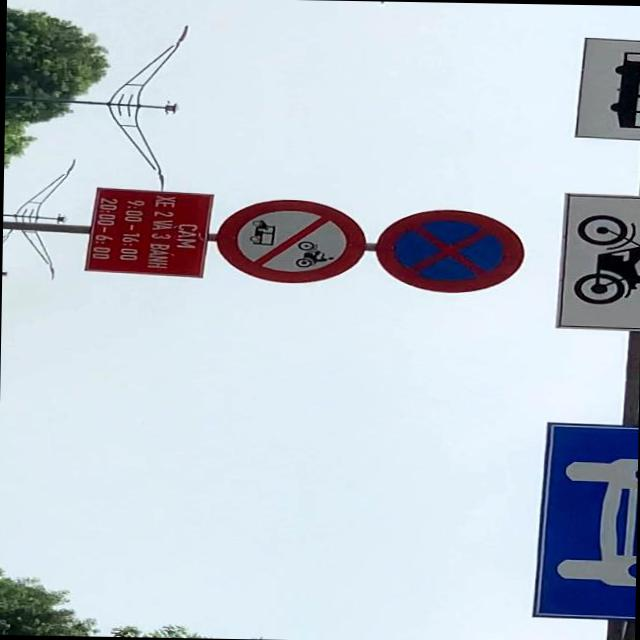P-104: (216, 197, 366, 284)
P-130: (373, 207, 522, 294)
